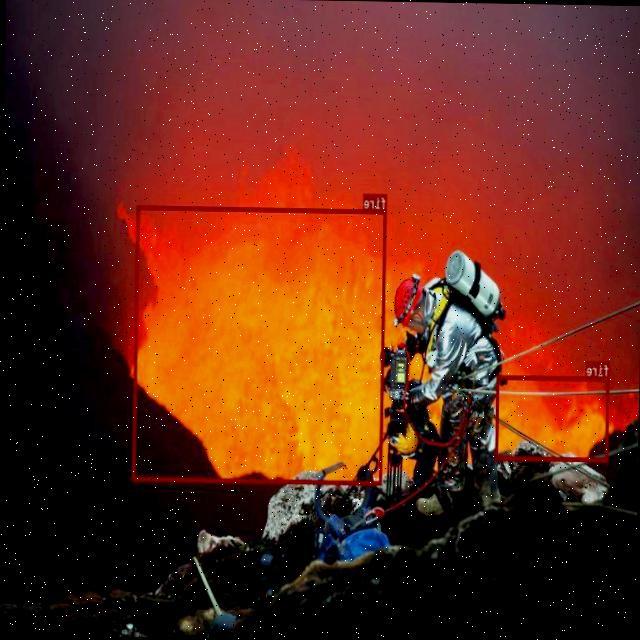fire: (132, 204, 387, 483), (496, 374, 609, 461)
